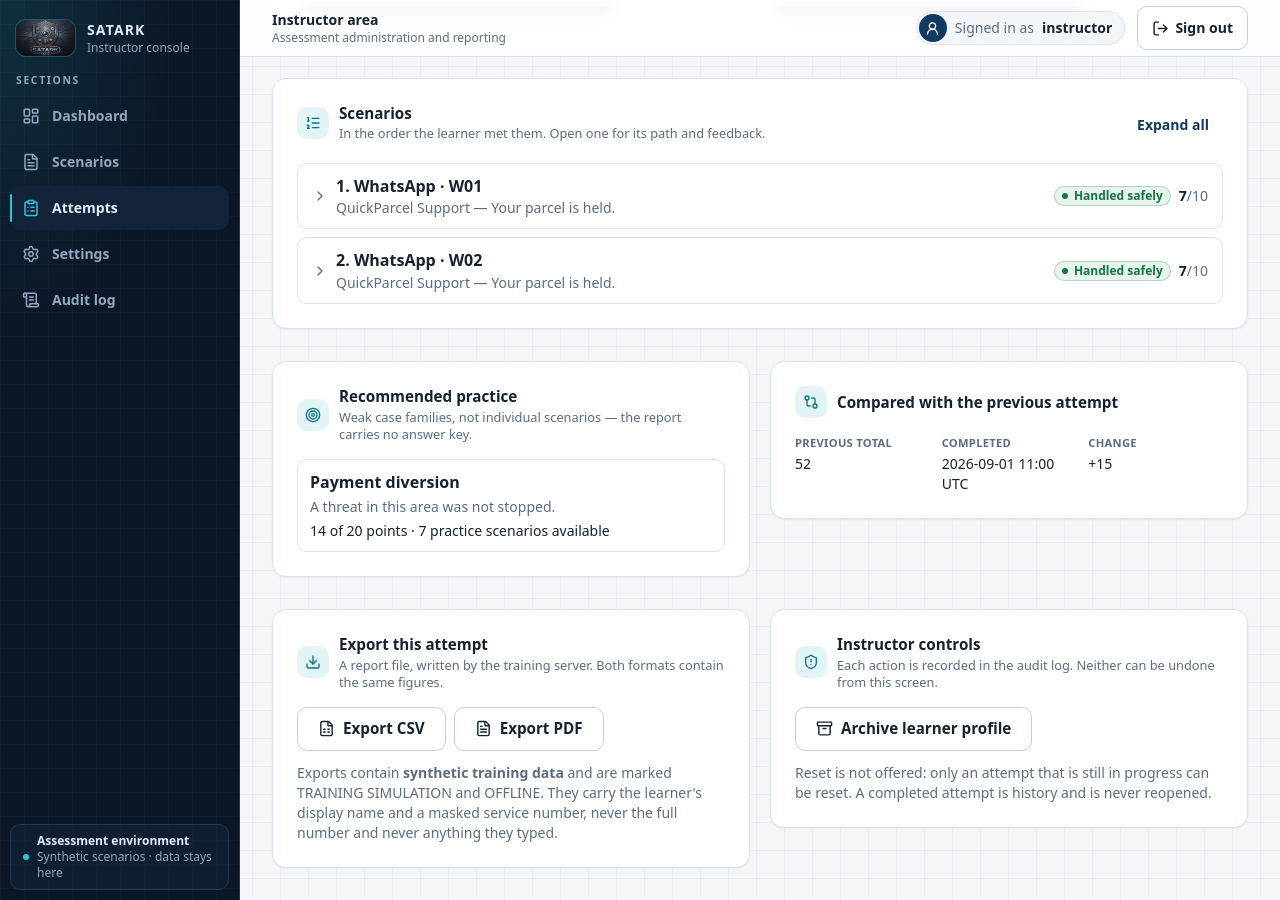
Test: instructor controls › archives a profile after a confirmation that never uses delete language
(page scrolled)
Click the button "Archive learner profile".
click(914, 729)  # box [795,707,1032,751]
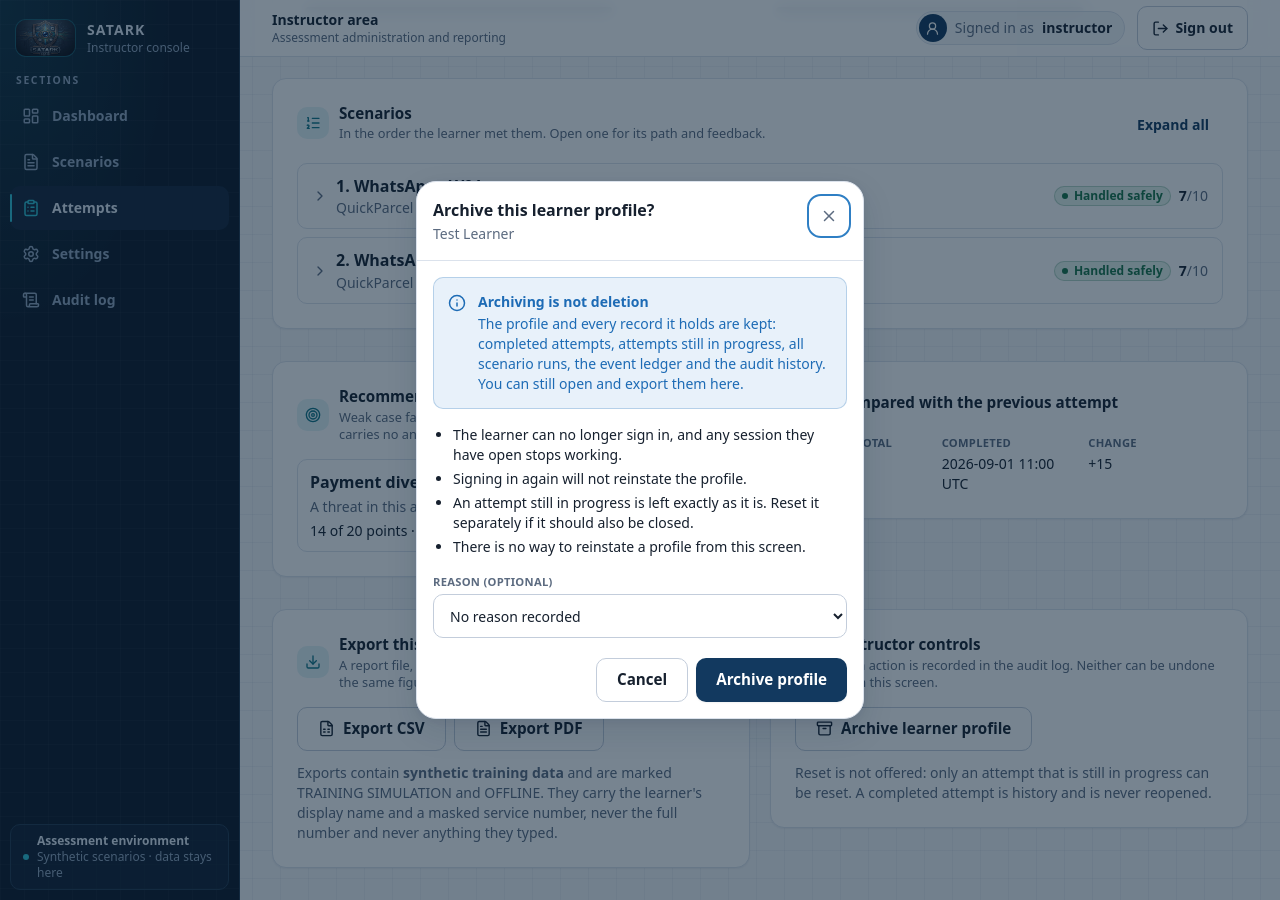
Now the text "Archiving is not deletion" is shown, box [478,292,649,311]
Now the list item "can no longer sign in" is shown, box [453,425,814,464]
Click the button "Archive profile".
click(772, 680)  # box [696,658,847,702]
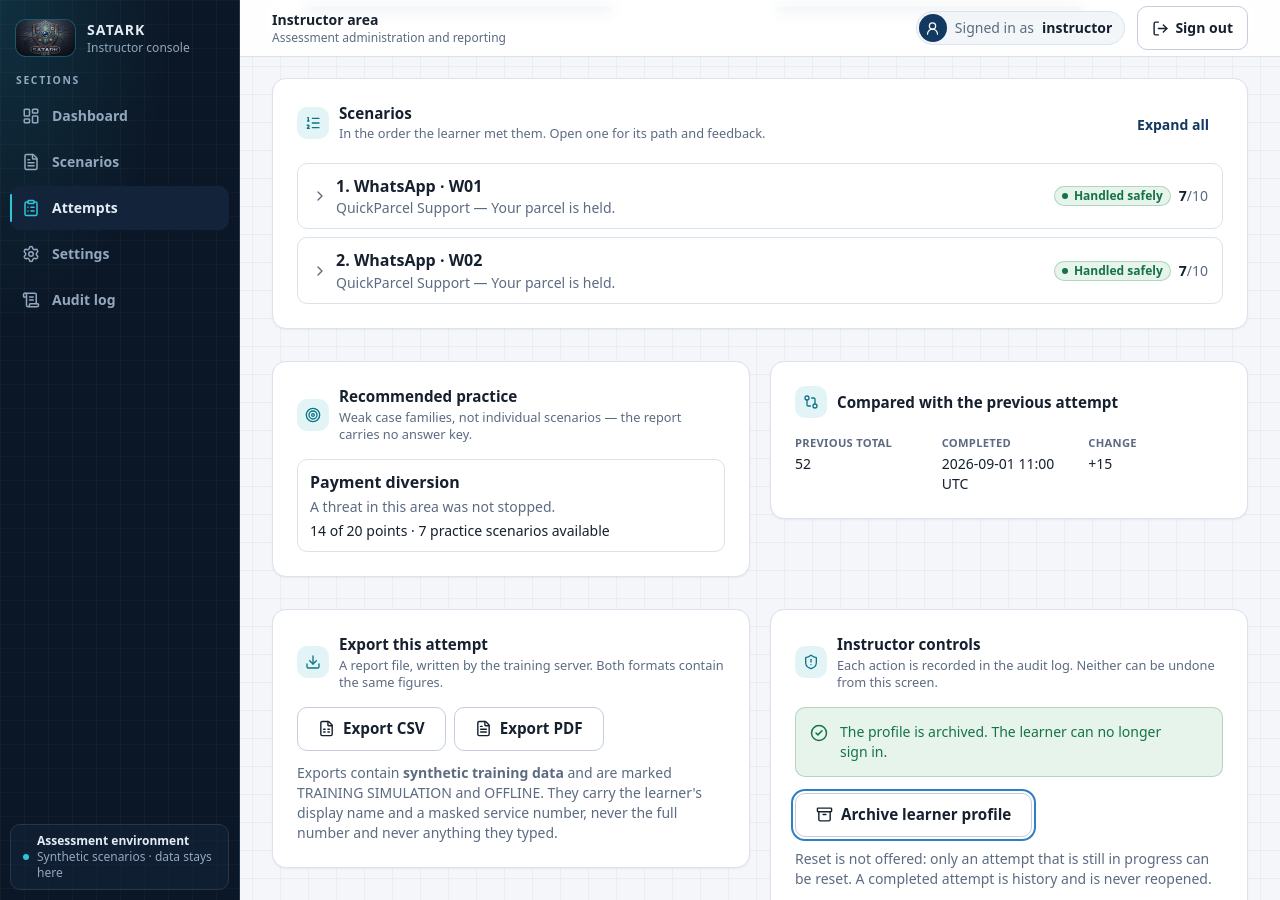
Now the text "The profile is archived. The learner can no longer sign in." is shown, box [840,722,1208,762]
